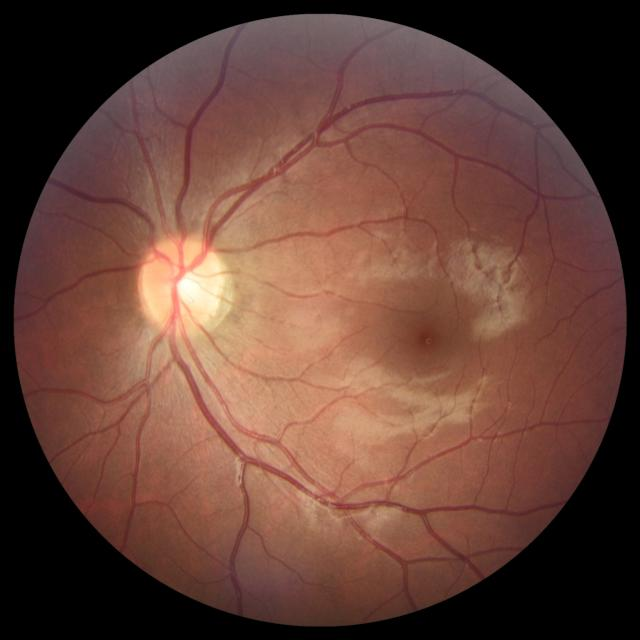OC: (169, 266, 209, 308)
OD: (138, 236, 222, 332)
